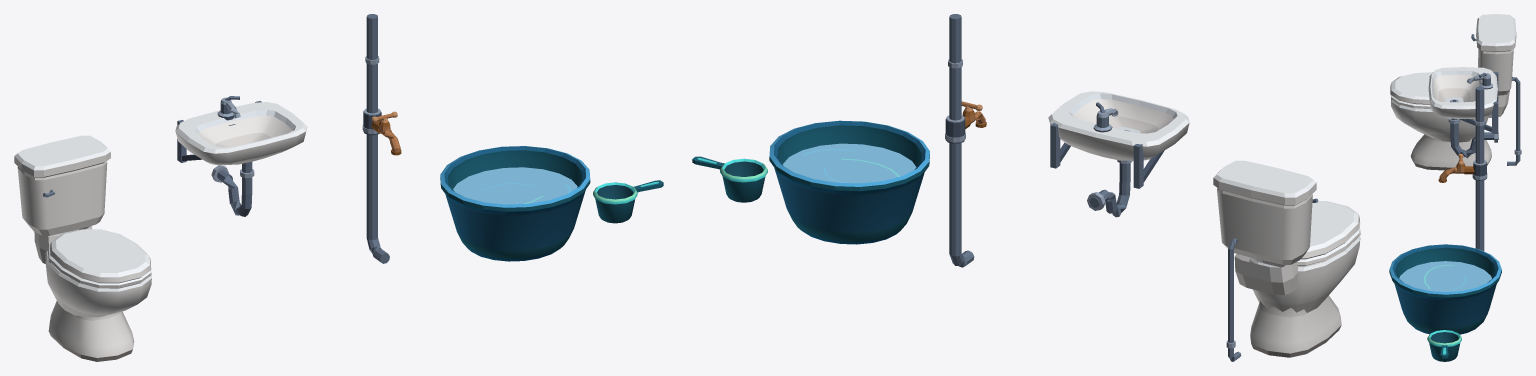
3 renders of one model, left to right at view 1: azimuth 30°, elevation 25°; view 2: azimuth 150°, elevation 25°; view 3: azimuth 270°, elevation 25°, orthographic. The views are drawn at different scales.
Parts seen in each view (by area): view 1: Bathroom - Toilet, Bathroom - Planggana, Bathroom - Wall Sink, Bathroom - Gripo, Bathroom - Tabo; view 2: Bathroom - Toilet, Bathroom - Planggana, Bathroom - Wall Sink, Bathroom - Gripo, Bathroom - Tabo; view 3: Bathroom - Planggana, Bathroom - Toilet, Bathroom - Wall Sink, Bathroom - Gripo, Bathroom - Tabo.
Boxes of the visible parts, bbox=[...] form: Bathroom - Toilet: bbox=[14, 135, 151, 361]; Bathroom - Planggana: bbox=[440, 146, 590, 261]; Bathroom - Wall Sink: bbox=[175, 96, 307, 216]; Bathroom - Gripo: bbox=[362, 14, 401, 263]; Bathroom - Tabo: bbox=[593, 180, 663, 223]; Bathroom - Toilet: bbox=[1213, 160, 1360, 361]; Bathroom - Planggana: bbox=[769, 120, 929, 244]; Bathroom - Wall Sink: bbox=[1048, 91, 1189, 217]; Bathroom - Gripo: bbox=[945, 14, 986, 267]; Bathroom - Tabo: bbox=[692, 156, 767, 202]; Bathroom - Planggana: bbox=[1389, 244, 1501, 334]; Bathroom - Toilet: bbox=[1390, 14, 1521, 170]; Bathroom - Wall Sink: bbox=[1428, 67, 1498, 158]; Bathroom - Gripo: bbox=[1438, 86, 1487, 251]; Bathroom - Tabo: bbox=[1427, 330, 1461, 361].
Bounding box in the file's own units: 2.89 × 1.08 × 0.7.
Materials: 1 (1 with a texture image).
